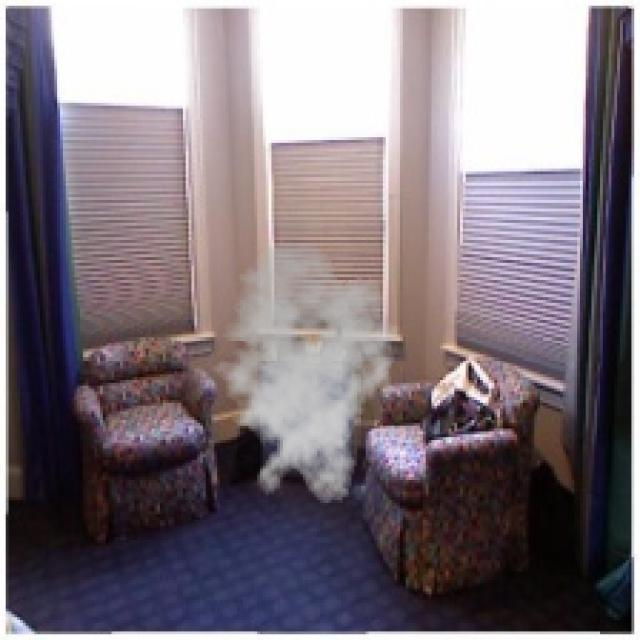Smoke: (203, 240, 406, 506)
